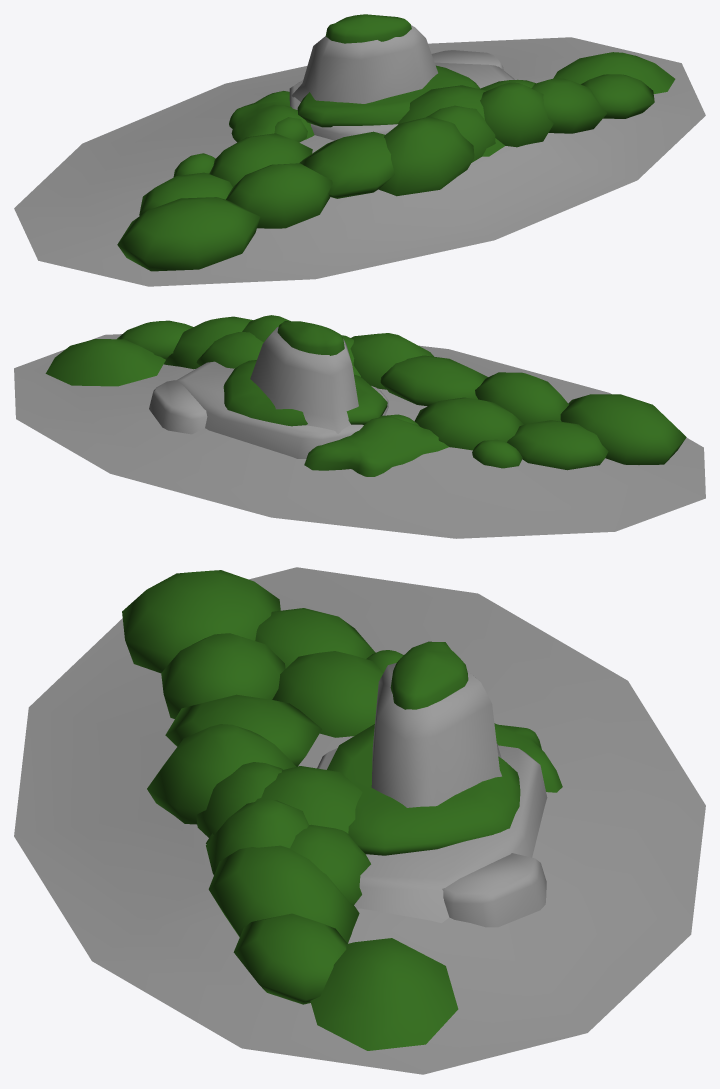
The model's file is Obj_island.FBX.
3 views of the same model, one above another, from view 1: azimuth 30°, elevation 25°; view 2: azimuth 150°, elevation 25°; view 3: azimuth 270°, elevation 25° (orthographic). The views are drawn at different scales.
Visible parts, largest first — view 1: Obj_island, Obj_island_tree1, Obj_island_tree2, Obj_island_tree3, Obj_island_rock2, Obj_island_grass3, Obj_island_grass1, Obj_island_rock3, Obj_island_grass2, Obj_island_rock002; view 2: Obj_island, Obj_island_tree1, Obj_island_tree3, Obj_island_tree2, Obj_island_rock2, Obj_island_rock3, Obj_island_grass1, Obj_island_grass3, Obj_island_rock002, Obj_island_grass2; view 3: Obj_island, Obj_island_tree3, Obj_island_tree1, Obj_island_tree2, Obj_island_rock2, Obj_island_grass3, Obj_island_rock3, Obj_island_rock002, Obj_island_grass2, Obj_island_grass1.
Boxes of the visible parts, x1,y1,x2,y2 form: Obj_island: (14,37,705,286); Obj_island_tree1: (117,117,332,271); Obj_island_tree2: (299,82,553,198); Obj_island_tree3: (480,52,675,133); Obj_island_rock2: (291,25,437,103); Obj_island_grass3: (297,65,479,127); Obj_island_grass1: (229,91,314,142); Obj_island_rock3: (289,62,514,140); Obj_island_grass2: (325,14,411,43); Obj_island_rock002: (431,50,503,69); Obj_island: (14,334,705,538); Obj_island_tree1: (384,372,686,470); Obj_island_tree3: (45,316,263,386); Obj_island_tree2: (242,315,487,406); Obj_island_rock2: (250,327,358,433); Obj_island_rock3: (177,361,388,458); Obj_island_grass1: (304,415,448,476); Obj_island_grass3: (223,360,387,426); Obj_island_rock002: (149,380,207,434); Obj_island_grass2: (277,321,344,355); Obj_island: (14,567,705,1074); Obj_island_tree3: (208,824,458,1050); Obj_island_tree1: (122,570,403,737); Obj_island_tree2: (147,694,362,874); Obj_island_rock2: (371,663,501,807); Obj_island_grass3: (327,724,520,855); Obj_island_rock3: (317,745,547,922); Obj_island_rock002: (442,853,546,927); Obj_island_grass2: (390,641,468,709); Obj_island_grass1: (494,723,562,792).
Bounding box in the file's own units: 187 × 108 × 31.93.
